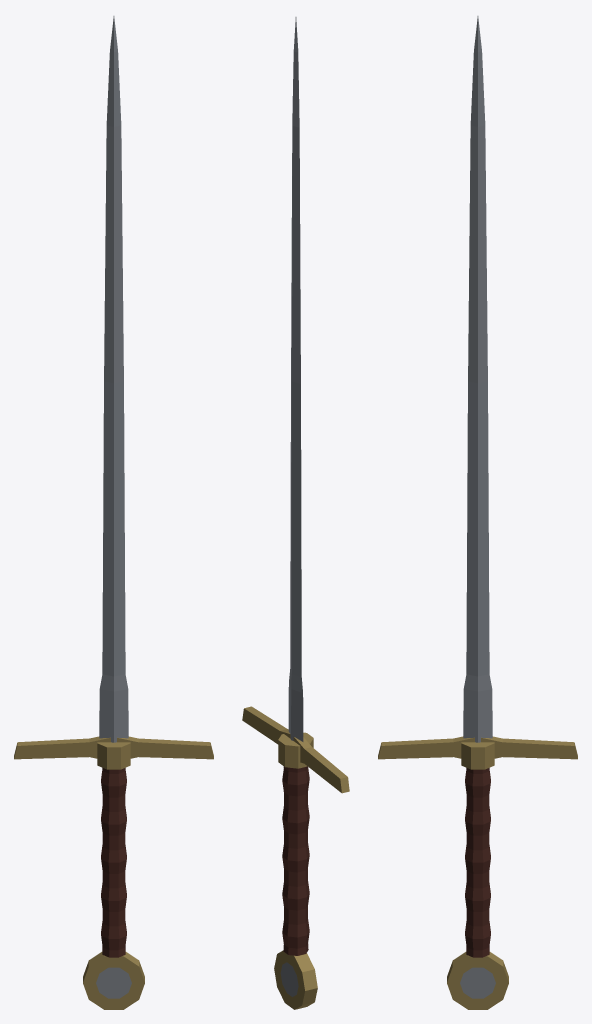
Rendered from WP_Estoc_03.glb.
3 renders of one model, left to right at view 1: azimuth 90°, elevation 25°; view 2: azimuth 210°, elevation 25°; view 3: azimuth 270°, elevation 25°, orthographic.
Parts seen in each view (by area): view 1: WP_Estoc_03; view 2: WP_Estoc_03; view 3: WP_Estoc_03.
Part boxes in pixels (x1,y1,x2,y2): WP_Estoc_03: (14,16,213,1009); WP_Estoc_03: (242,17,349,1009); WP_Estoc_03: (378,16,577,1009).
Bounding box in the file's own units: 0.0407 × 1.34 × 0.244.
